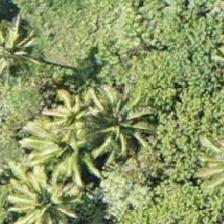coconut_tree: (42, 89, 132, 179), (0, 132, 88, 222), (0, 19, 56, 109), (0, 152, 69, 223)
